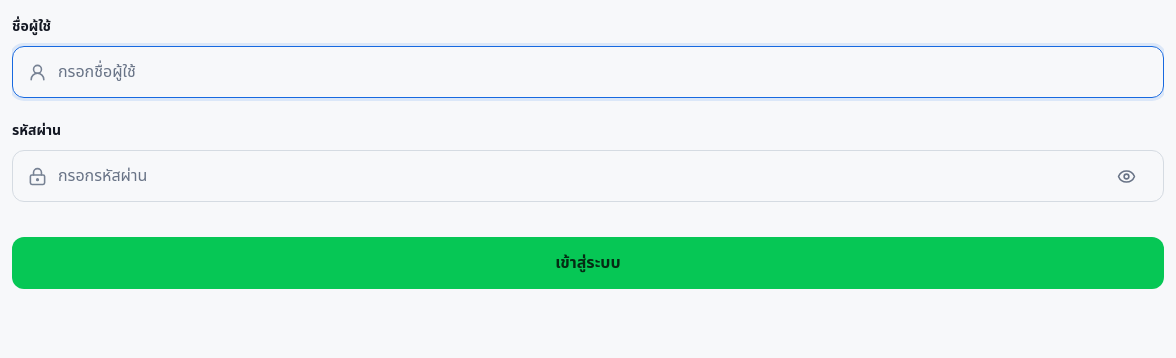
Test: LoginForm › shows field errors before submitting an empty form
This screenshot has width=1176, height=358.
Click the button "เข้าสู่ระบบ".
click(588, 263)  # box [12,237,1164,289]
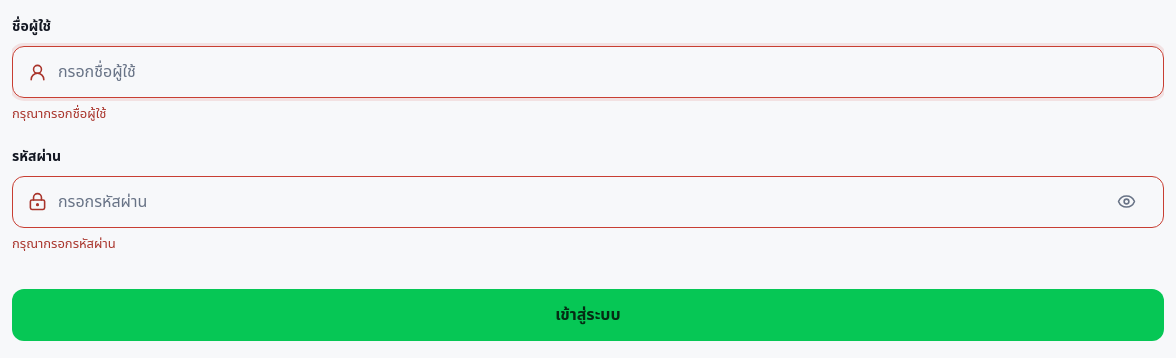
Check: the text "กรุณากรอกชื่อผู้ใช้" is shown, box [12,104,106,124]
Check: the text "กรุณากรอกรหัสผ่าน" is shown, box [12,234,116,254]
